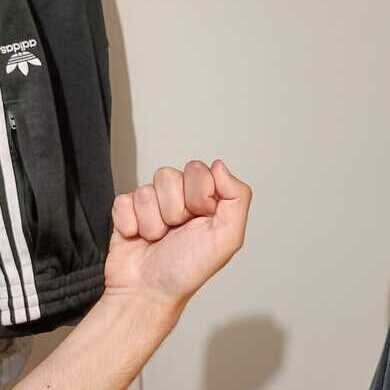A: (101, 154, 254, 296)
